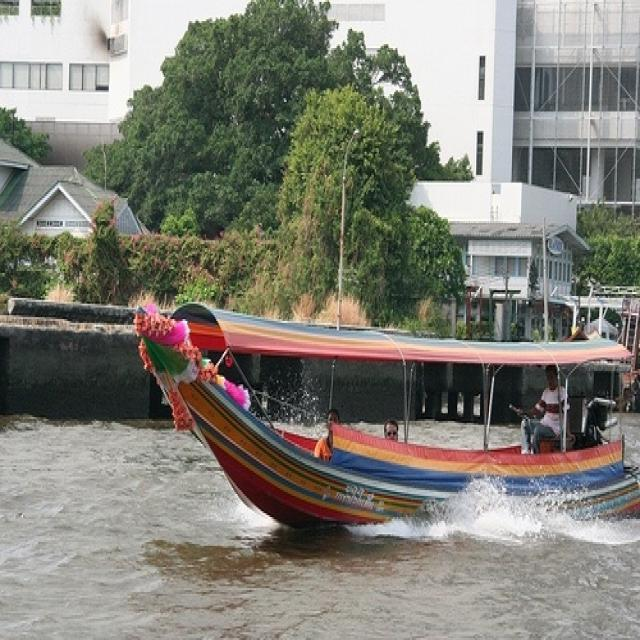boat: (133, 292, 640, 536)
